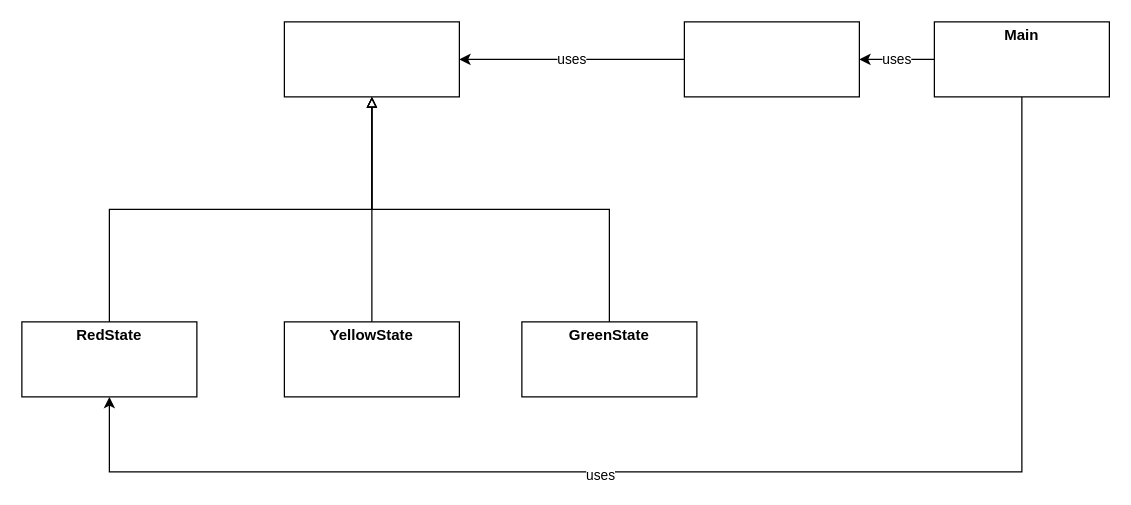
The diagram is 1131 pixels wide and 505 high, and some of its shapes have lost their labels. Here are the shapes that lost their labels. From the top down, the centre of each, then its label:
(371,59): IState
(771,59): Traffic
